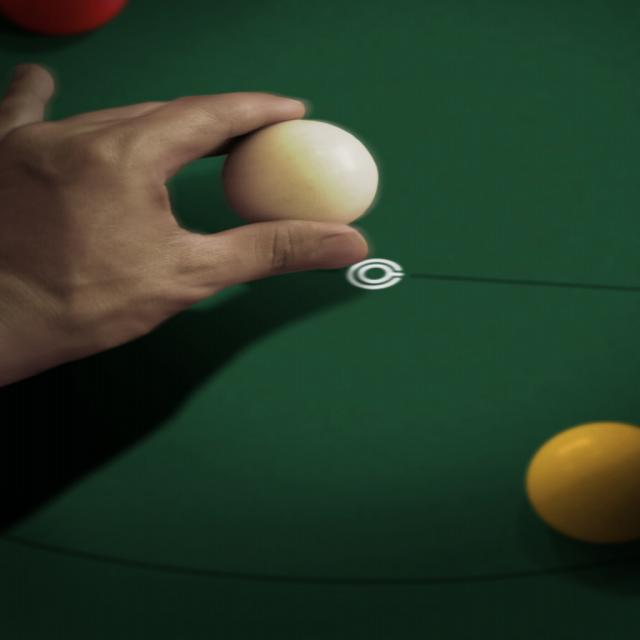Ball: (222, 118, 380, 224), (525, 423, 640, 544), (0, 0, 128, 33)
Billiard table: (2, 1, 633, 639)
